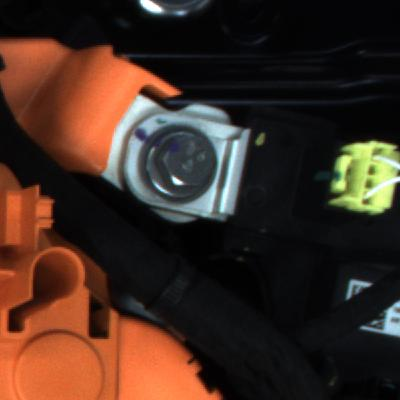nut_b: (134, 121, 225, 205)
